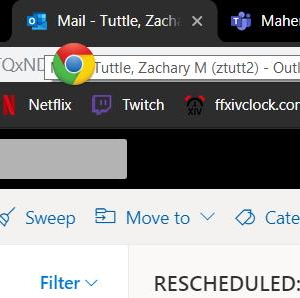chrome: (52, 42, 95, 85)
